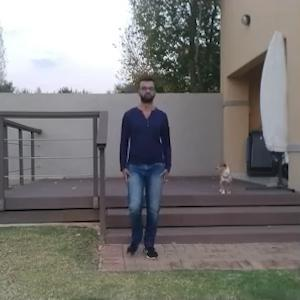follow: (115, 71, 164, 267)
